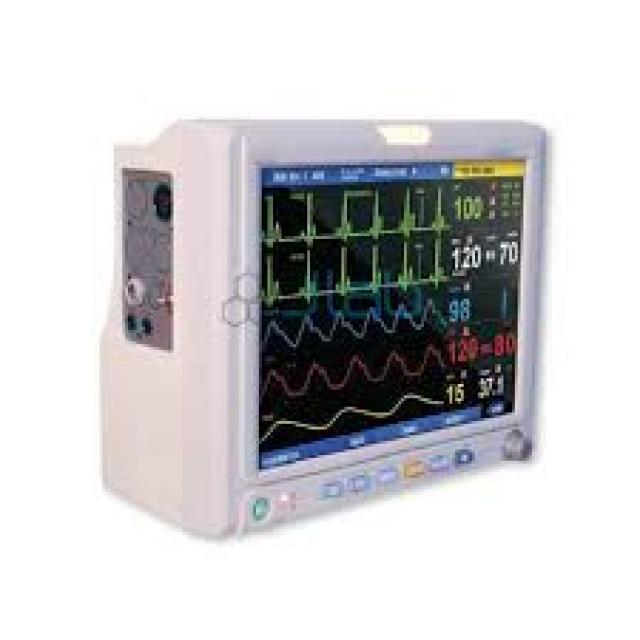cardiac_monitor: (130, 117, 550, 546)
